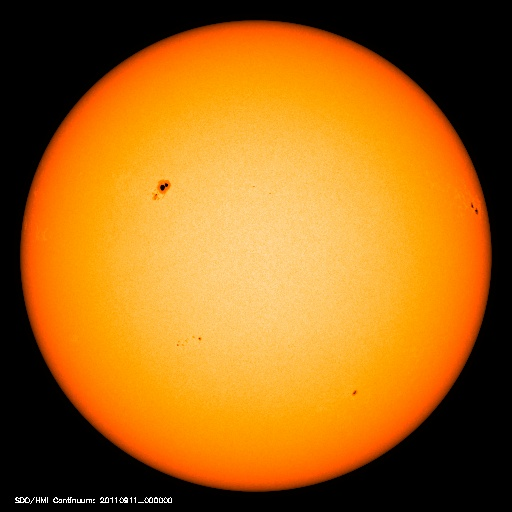sunspot: (146, 172, 177, 207), (169, 327, 206, 352), (340, 378, 368, 407), (460, 192, 486, 223)
